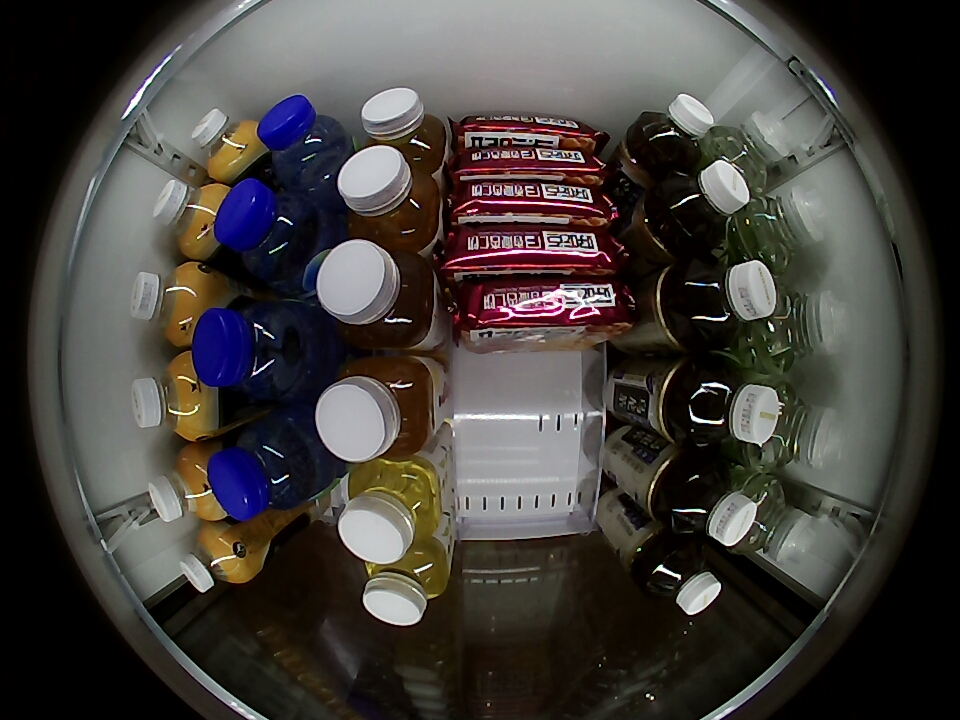asamu: (129, 263, 213, 345), (130, 355, 211, 440), (148, 445, 228, 523), (152, 179, 229, 257), (192, 108, 262, 178), (179, 525, 247, 593)
chapai: (312, 239, 438, 350), (315, 355, 439, 463), (337, 145, 442, 250), (360, 87, 449, 170)
chapai2: (338, 459, 442, 564), (362, 539, 450, 626)
haochidian: (453, 278, 637, 346), (440, 229, 632, 277), (446, 184, 623, 227), (452, 146, 611, 184), (454, 114, 607, 149)
jianjiao: (751, 381, 842, 471), (753, 286, 845, 373), (739, 187, 826, 271), (734, 475, 815, 563), (708, 111, 792, 190)
maidong: (208, 411, 327, 520), (214, 179, 329, 288), (192, 300, 311, 399), (257, 94, 350, 191)
wulongcha: (681, 255, 776, 347), (684, 358, 781, 448), (660, 160, 751, 246), (668, 459, 757, 546), (642, 539, 722, 616), (637, 93, 715, 168)
